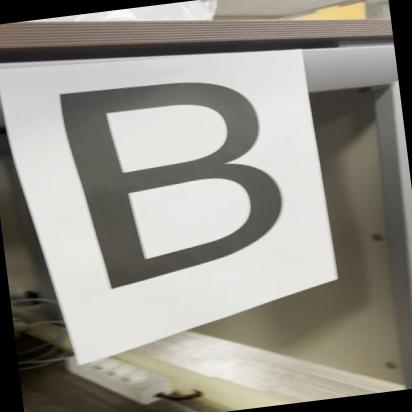seat: (49, 63, 304, 298)
